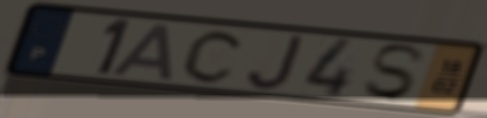1: (97, 17, 135, 78)
4: (301, 36, 355, 100)
A: (107, 21, 177, 83)
C: (179, 28, 249, 85)
J: (244, 32, 308, 92)
S: (360, 43, 430, 103)
